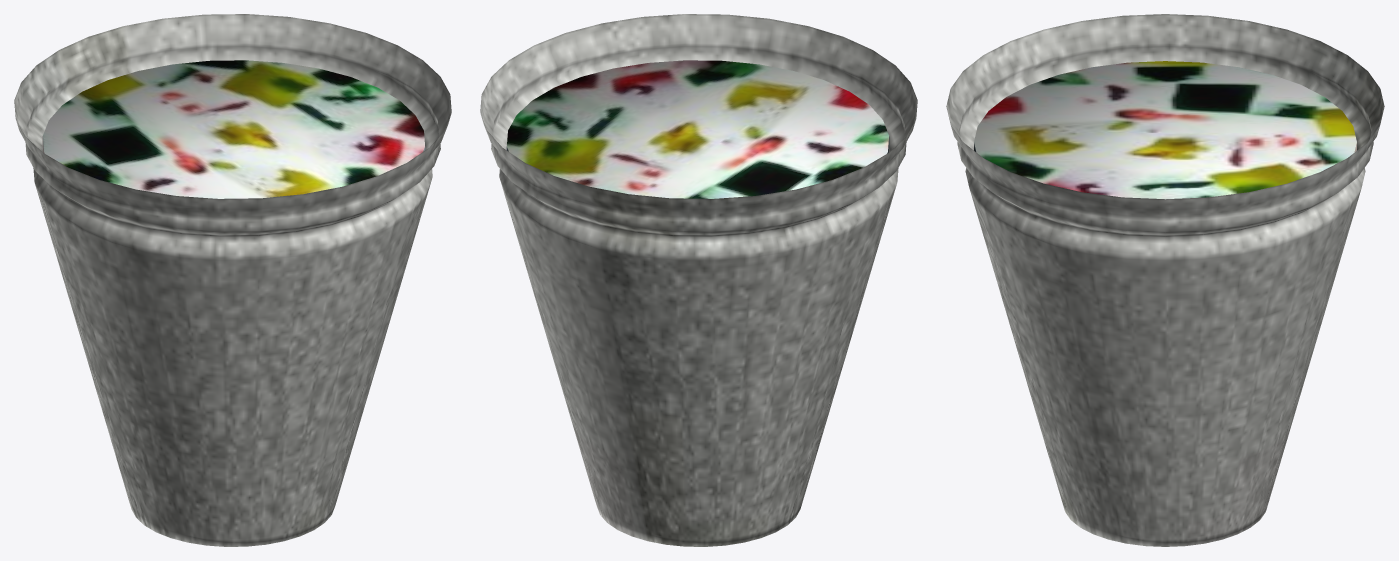
The model's file is gelatina.glb.
3 renders of one model, left to right at view 1: azimuth 30°, elevation 25°; view 2: azimuth 150°, elevation 25°; view 3: azimuth 270°, elevation 25°, orthographic.
Visible parts, largest first — view 1: Cilindro, Cilindro.002; view 2: Cilindro, Cilindro.002; view 3: Cilindro, Cilindro.002.
Part boxes in pixels (box(x1,y1,x2,y2)): Cilindro: box(14, 14, 451, 546); Cilindro.002: box(42, 60, 425, 198); Cilindro: box(480, 14, 917, 546); Cilindro.002: box(506, 60, 889, 198); Cilindro: box(946, 14, 1384, 546); Cilindro.002: box(974, 61, 1356, 199).
Size of the model in its own units: 3.41 by 3.41 by 3.41.
Materials: 2 (2 with a texture image).
